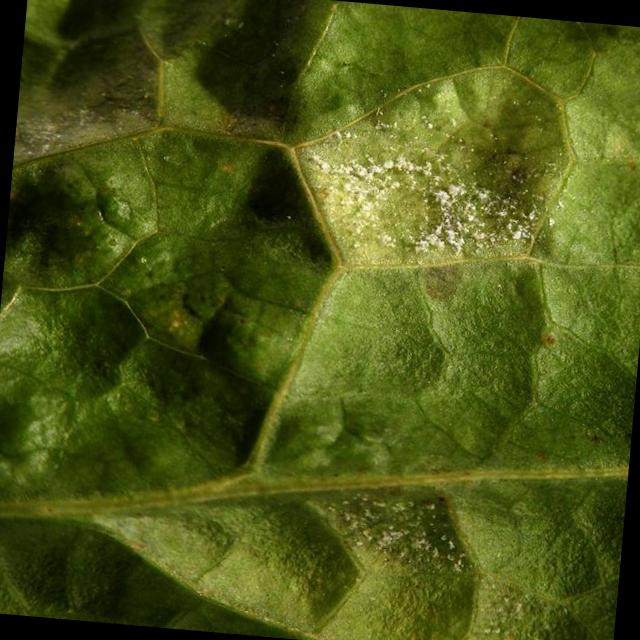Powdery_Mildew: (278, 63, 589, 296)
